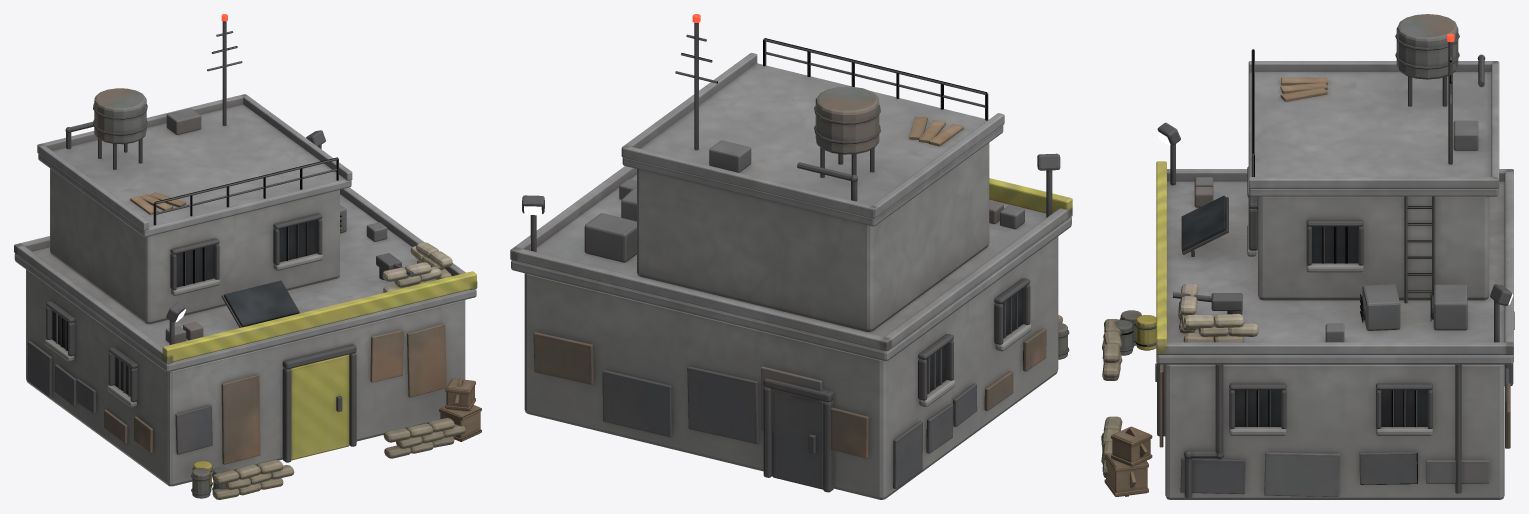
3 renders of one model, left to right at view 1: azimuth 30°, elevation 25°; view 2: azimuth 150°, elevation 25°; view 3: azimuth 270°, elevation 25°, orthographic. The views are drawn at different scales.
Visible parts, largest first — view 1: base_hq; view 2: base_hq; view 3: base_hq.
Part boxes in pixels (x1=…): base_hq: x1=14, y1=21, x2=481, y2=499; base_hq: x1=510, y1=22, x2=1072, y2=499; base_hq: x1=1101, y1=14, x2=1514, y2=499.
Size of the model in its own units: 2.74 by 2.91 by 2.68.
Materials: 3 (1 with a texture image).
